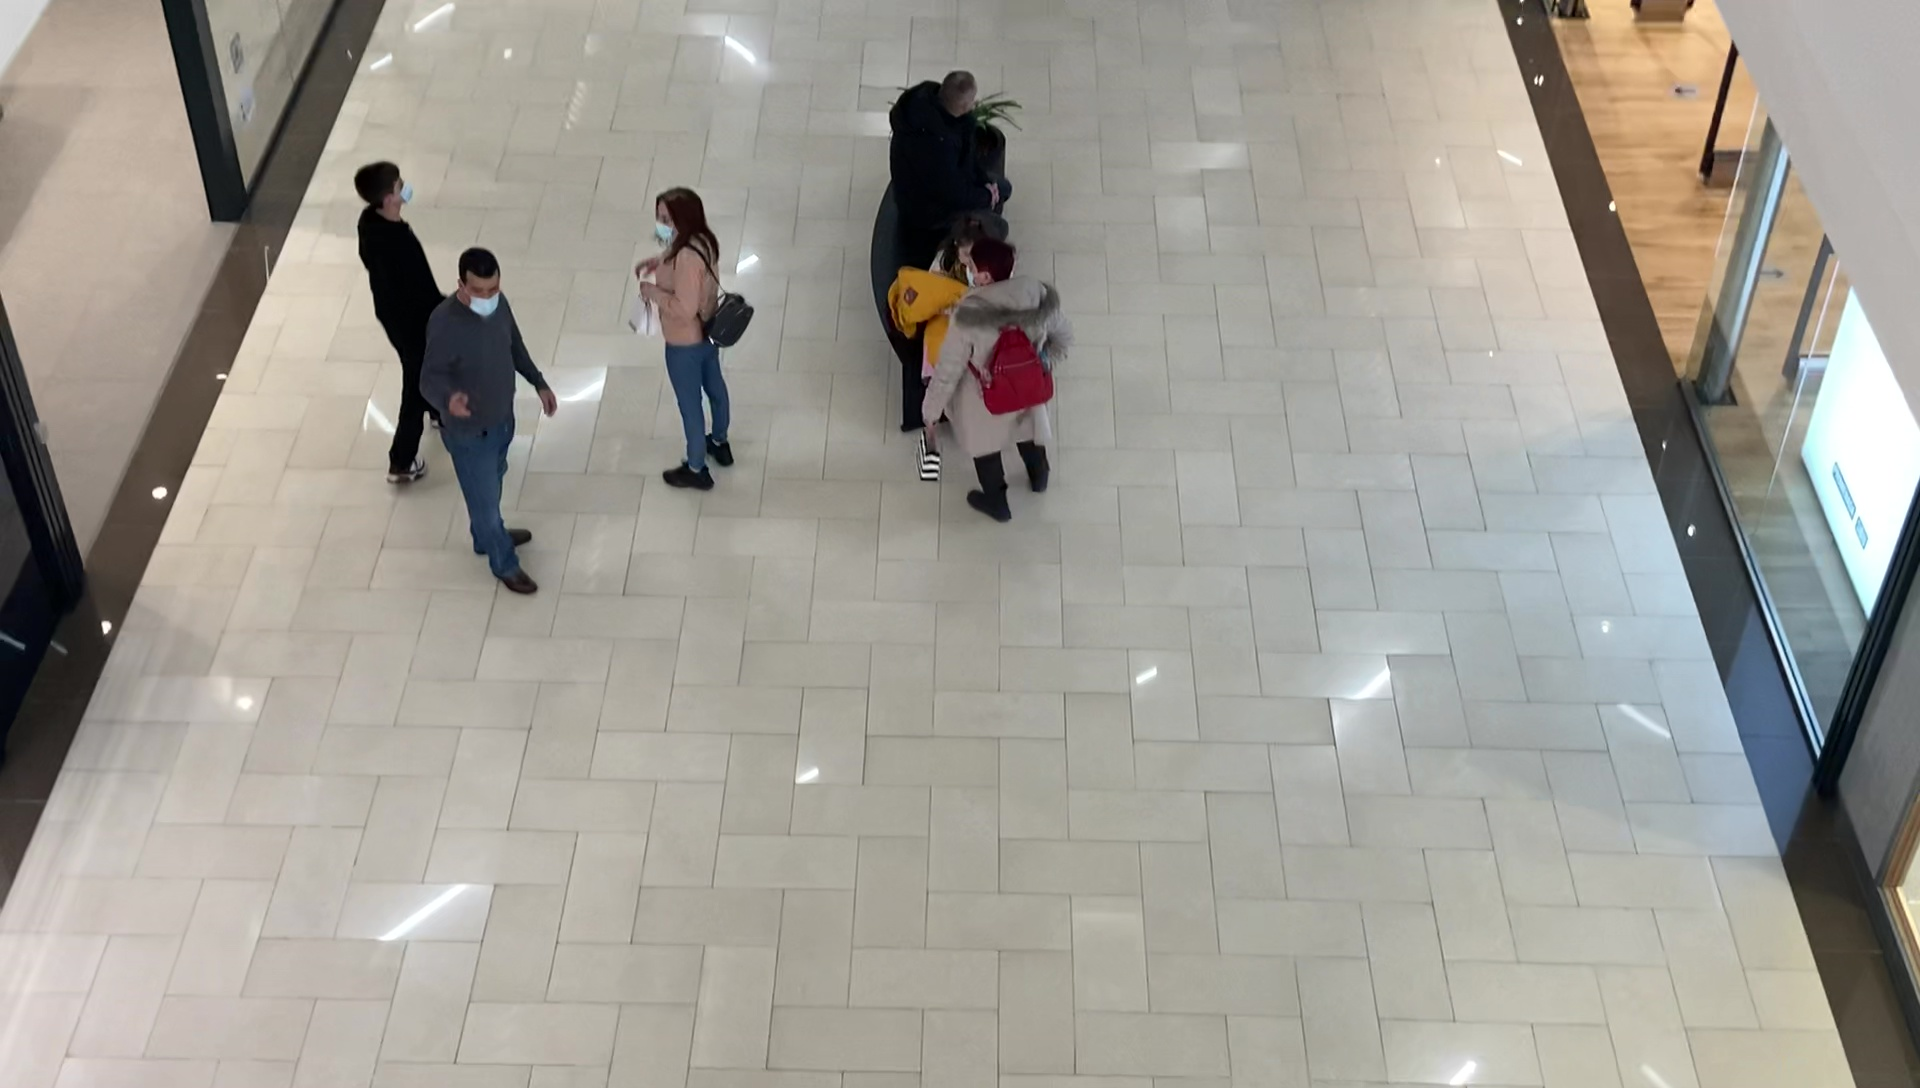person: (427, 248, 558, 598), (633, 187, 756, 492), (352, 162, 445, 483)
